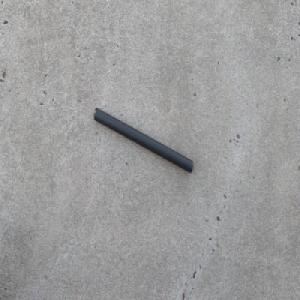LuggagePart: (93, 106, 193, 174)
